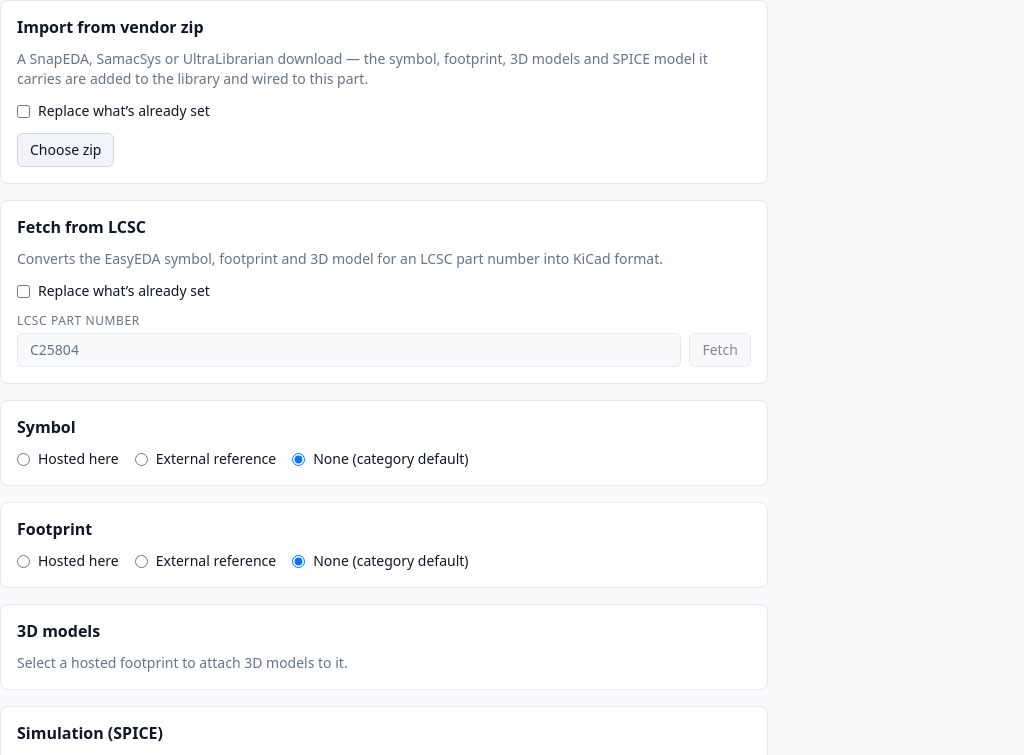
it: PartCad vendor imports › keeps the LCSC button disabled until a part number is typed
The width and height of the screenshot is (1024, 755).
Expected: the button "Fetch" is disabled, [689,333,751,367]
Step 1. Type "C1" into the field labelled "LCSC part number" → (349, 350), box [17,333,681,367]
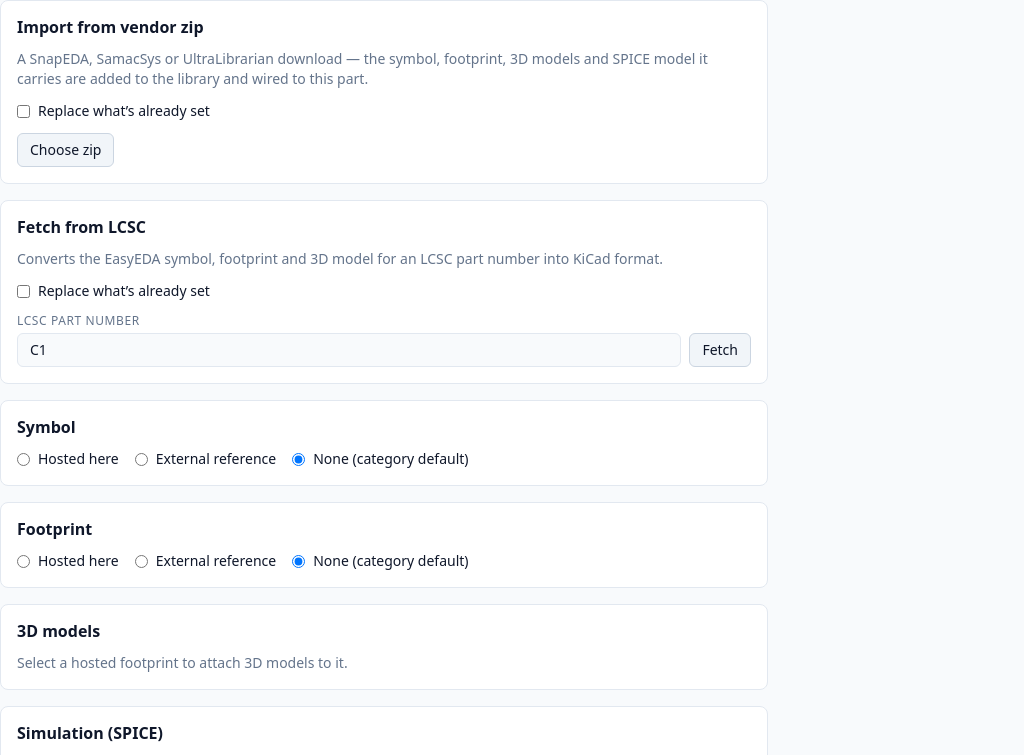
Result: the button "Fetch" is enabled at [689,333,751,367]
